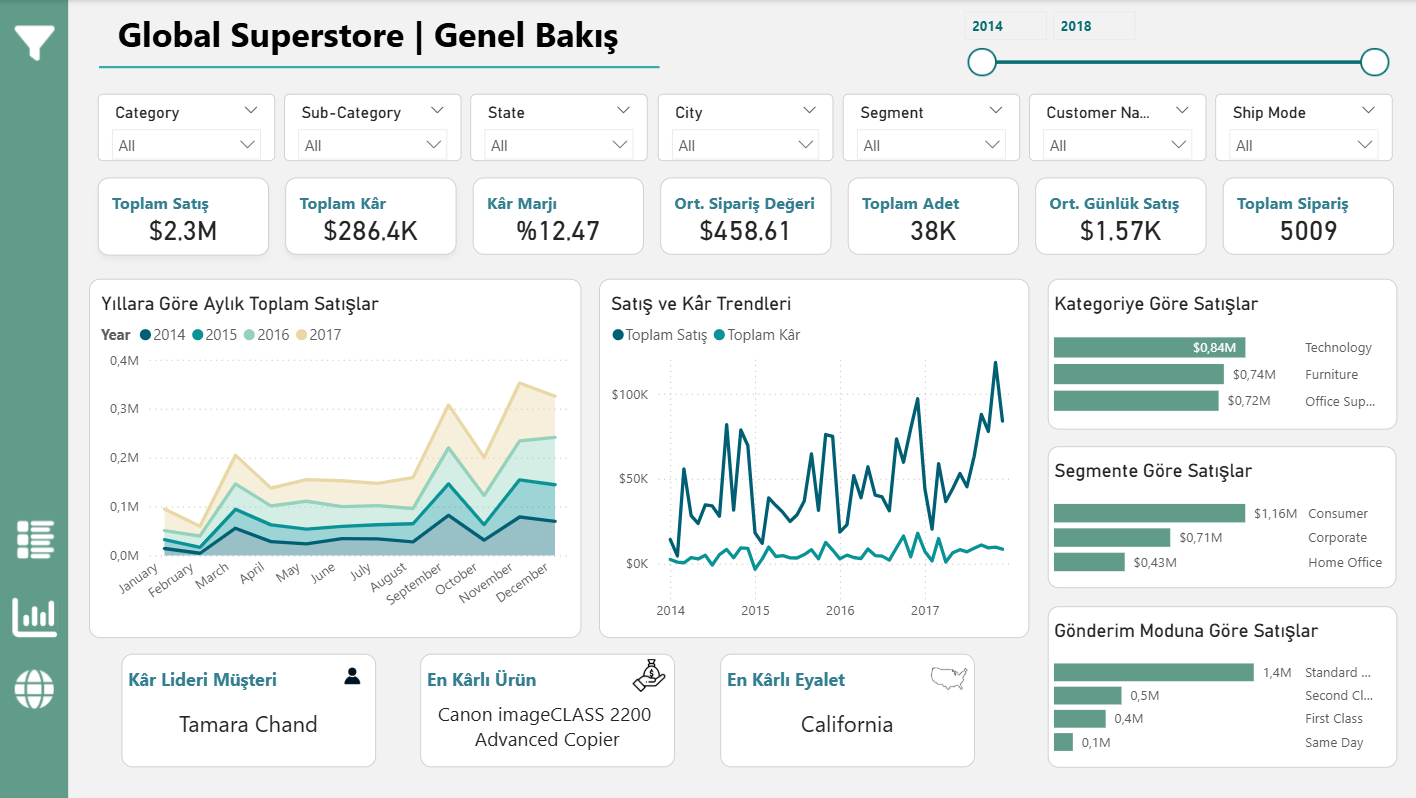

The page's visual inventory and layout, read from the dashboard file:
{"tool":"powerbi","page":{"name":"Genel Bakış ","canvas":[1280,720],"ordinal":0},"visuals":[{"type":"shape","title":"Left Nav Background","box":[0,0,62.4,720.2],"z":0},{"type":"slicer","fields":{"Values":["Fact_Sales.Category"]},"box":[88.6,84.3,160.1,60.6],"z":1000},{"type":"slicer","fields":{"Values":["Fact_Sales.Customer Name"]},"box":[928.7,84.3,160.1,60.6],"z":2000},{"type":"slicer","fields":{"Values":["Fact_Sales.Segment"]},"box":[760.6,84.4,160.2,61.1],"z":3000},{"type":"slicer","fields":{"Values":["Fact_Sales.Ship Mode"]},"box":[1096.9,84.4,160.2,61.1],"z":4000},{"type":"slicer","fields":{"Values":["Fact_Sales.State"]},"box":[425.2,84.3,160.1,60.6],"z":5000},{"type":"slicer","fields":{"Values":["Fact_Sales.City"]},"box":[593.5,84.3,158.7,60.6],"z":6000},{"type":"card","title":"Toplam Satış","fields":{"Values":["Fact_Sales.Toplam Satış"]},"box":[88.6,159.9,154,70],"z":7000},{"type":"card","title":"Toplam Adet","fields":{"Values":["Fact_Sales.Toplam Adet"]},"box":[764.8,160.1,154.1,69.7],"z":8000},{"type":"card","title":"Toplam Kâr","fields":{"Values":["Fact_Sales.Toplam Kâr"]},"box":[257.6,160.1,154.1,69.7],"z":9000},{"type":"card","title":"Ort. Günlük Satış","fields":{"Values":["Fact_Sales.Ortalama Günlük Satış"]},"box":[933.9,160.1,154.1,69.7],"z":10000},{"type":"card","title":"Ort. Sipariş Değeri","fields":{"Values":["Fact_Sales.Ortalama Sipariş Değeri"]},"box":[595.7,160.1,154.1,69.7],"z":11000},{"type":"card","title":"Toplam Sipariş","fields":{"Values":["Fact_Sales.Toplam Sipariş"]},"box":[1103,160.1,154.1,69.7],"z":12000},{"type":"clusteredBarChart","title":"Segmente Göre Satışlar","fields":{"Category":["Customer_Table.Segment"],"Y":["Fact_Sales.Toplam Satış"]},"box":[946.1,402.9,314.3,128.4],"z":13000},{"type":"clusteredBarChart","title":"Kategoriye Göre Satışlar","fields":{"Category":["Fact_Sales.Category"],"Y":["Fact_Sales.Toplam Satış"]},"box":[945.5,251.9,315.5,135.7],"z":14000},{"type":"card","title":"Kâr Marjı","fields":{"Values":["Fact_Sales.Kâr Marjı"]},"box":[426.7,160.1,154.1,69.7],"z":15000},{"type":"stackedAreaChart","title":"Yıllara Göre Aylık Toplam Satışlar","fields":{"Category":["Calendar.Date.Variation.Date Hierarchy.Month"],"Y":["Sum(Fact_Sales.Sales)"],"Series":["Calendar.Date.Variation.Date Hierarchy.Year"]},"box":[80.7,251.9,443.9,324.1],"z":16000},{"type":"slicer","fields":{"Values":["Fact_Sales.Sub-Category"]},"box":[256.9,84.3,160.1,60.6],"z":17000},{"type":"clusteredBarChart","title":"Gönderim Moduna Göre Satışlar","fields":{"Category":["Fact_Sales.Ship Mode"],"Y":["Sum(Fact_Sales.Sales)"]},"box":[945.5,546.6,315.5,145.5],"z":18000},{"type":"actionButton","box":[10.2,597.2,43.4,48.5],"z":19000},{"type":"actionButton","box":[7.7,528.3,48.5,56.2],"z":20000},{"type":"actionButton","box":[3.8,454.3,58.7,63.8],"z":21000},{"type":"shape","box":[89.7,0,505.5,121],"z":22000},{"type":"lineChart","title":"Satış ve Kâr Trendleri","fields":{"Y":["Fact_Sales.Toplam Satış","Fact_Sales.Toplam Kâr"],"Category":["Calendar.Date.Variation.Date Hierarchy.Year","Calendar.Date.Variation.Date Hierarchy.Quarter","Calendar.Date.Variation.Date Hierarchy.Month"]},"box":[540.5,251.9,387.6,324.1],"z":23000},{"type":"card","title":"Kâr Lideri","fields":{"Values":["Fact_Sales.En Çok Kâr Getiren Müşteri"]},"box":[110.1,589.4,229.9,102.7],"z":24000},{"type":"card","title":"En Kârlı Ürün ","fields":{"Values":["Fact_Sales.En Karlı Ürün Adı"]},"box":[380.3,589.4,229.9,102.7],"z":25000},{"type":"card","title":"En Kârlı Eyalet","fields":{"Values":["Fact_Sales.En Karlı Eyalet Adı"]},"box":[650.5,589.4,229.9,102.7],"z":26000},{"type":"image","box":[299.6,590.6,37.9,37.9],"z":27000},{"type":"image","box":[562.5,589.4,47.7,39.1],"z":28000},{"type":"image","box":[832.7,589.4,47.7,45.2],"z":29000},{"type":"slicer","fields":{"Values":["Calendar.Date.Variation.Date Hierarchy.Year"]},"box":[857.2,0,403.5,84.4],"z":29500},{"type":"actionButton","title":"Filter Button","box":[9.8,17.1,46.5,44],"z":29750},{"type":"shape","box":[84.4,0,496.5,59.9],"z":30000}]}

Visuals, with their boxes in screenshot pixels (x1, y1, x2, y2), scaled from the page's 1280x720 canvas onto the 1416x798 screenshot:
"Left Nav Background" shape: BBox(0, 0, 69, 797)
slicer - Fact_Sales.Category: BBox(98, 93, 275, 161)
slicer - Fact_Sales.Customer Name: BBox(1027, 93, 1204, 161)
slicer - Fact_Sales.Segment: BBox(841, 94, 1019, 161)
slicer - Fact_Sales.Ship Mode: BBox(1213, 94, 1391, 161)
slicer - Fact_Sales.State: BBox(470, 93, 647, 161)
slicer - Fact_Sales.City: BBox(657, 93, 832, 161)
"Toplam Satış" card: BBox(98, 177, 268, 255)
"Toplam Adet" card: BBox(846, 177, 1017, 255)
"Toplam Kâr" card: BBox(285, 177, 455, 255)
"Ort. Günlük Satış" card: BBox(1033, 177, 1204, 255)
"Ort. Sipariş Değeri" card: BBox(659, 177, 829, 255)
"Toplam Sipariş" card: BBox(1220, 177, 1391, 255)
"Segmente Göre Satışlar" clusteredBarChart: BBox(1047, 447, 1394, 589)
"Kategoriye Göre Satışlar" clusteredBarChart: BBox(1046, 279, 1395, 430)
"Kâr Marjı" card: BBox(472, 177, 643, 255)
"Yıllara Göre Aylık Toplam Satışlar" stackedAreaChart: BBox(89, 279, 580, 638)
slicer - Fact_Sales.Sub-Category: BBox(284, 93, 461, 161)
"Gönderim Moduna Göre Satışlar" clusteredBarChart: BBox(1046, 606, 1395, 767)
actionButton: BBox(11, 662, 59, 716)
actionButton: BBox(9, 586, 62, 648)
actionButton: BBox(4, 504, 69, 574)
shape: BBox(99, 0, 658, 134)
"Satış ve Kâr Trendleri" lineChart: BBox(598, 279, 1027, 638)
"Kâr Lideri" card: BBox(122, 653, 376, 767)
"En Kârlı Ürün " card: BBox(421, 653, 675, 767)
"En Kârlı Eyalet" card: BBox(720, 653, 974, 767)
image: BBox(331, 655, 373, 697)
image: BBox(622, 653, 675, 697)
image: BBox(921, 653, 974, 703)
slicer - Calendar.Date.Variation.Date Hierarchy.Year: BBox(948, 0, 1395, 94)
"Filter Button" actionButton: BBox(11, 19, 62, 68)
shape: BBox(93, 0, 643, 66)
